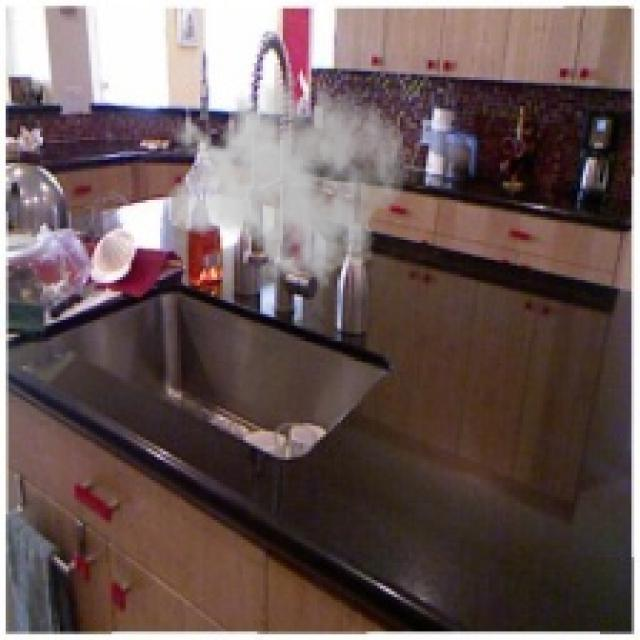Smoke: (162, 57, 408, 294)
